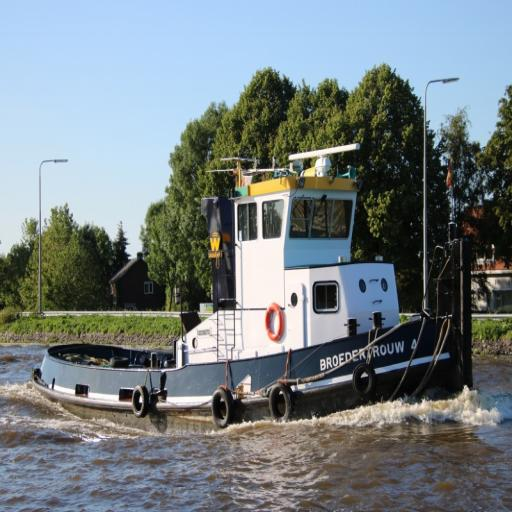tugboat: (30, 142, 477, 447)
